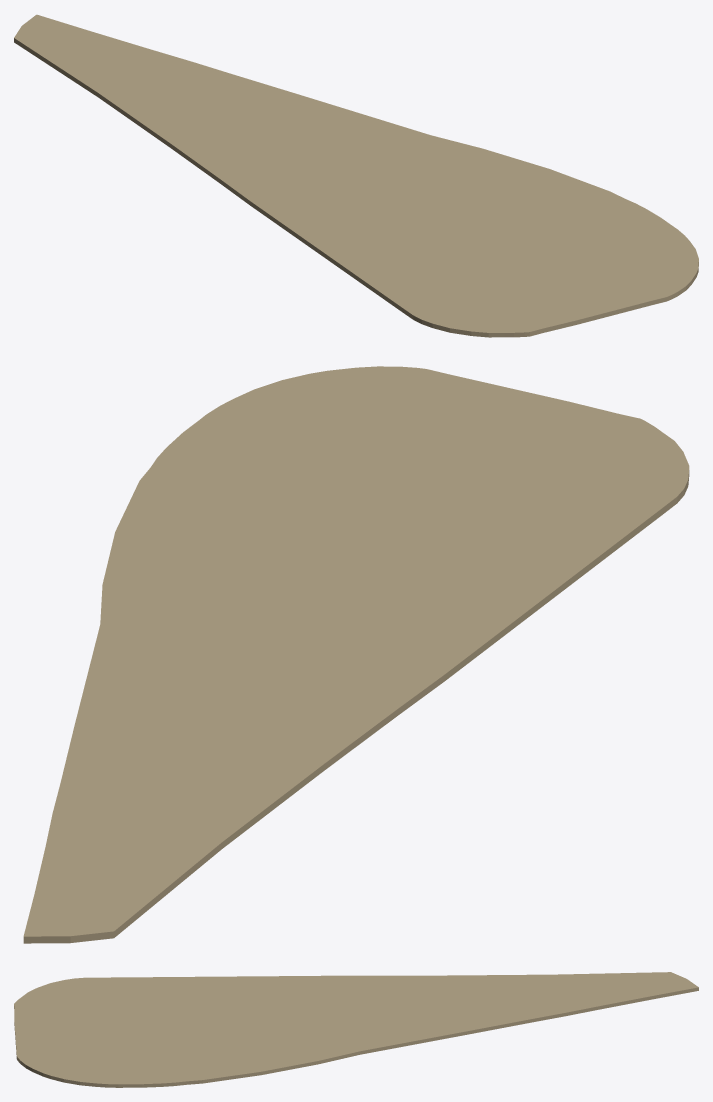
3 renders of one model, top to bottom at view 1: azimuth 30°, elevation 25°; view 2: azimuth 150°, elevation 25°; view 3: azimuth 270°, elevation 25°, orthographic. The views are drawn at different scales.
Visible parts, largest first — view 1: Cube.010; view 2: Cube.010; view 3: Cube.010.
Boxes of the visible parts, <box> form: Cube.010: <box>14,14,698,337</box>; Cube.010: <box>23,366,689,943</box>; Cube.010: <box>14,972,698,1087</box>.
Size of the model in its own units: 1045 by 15 by 2693.
